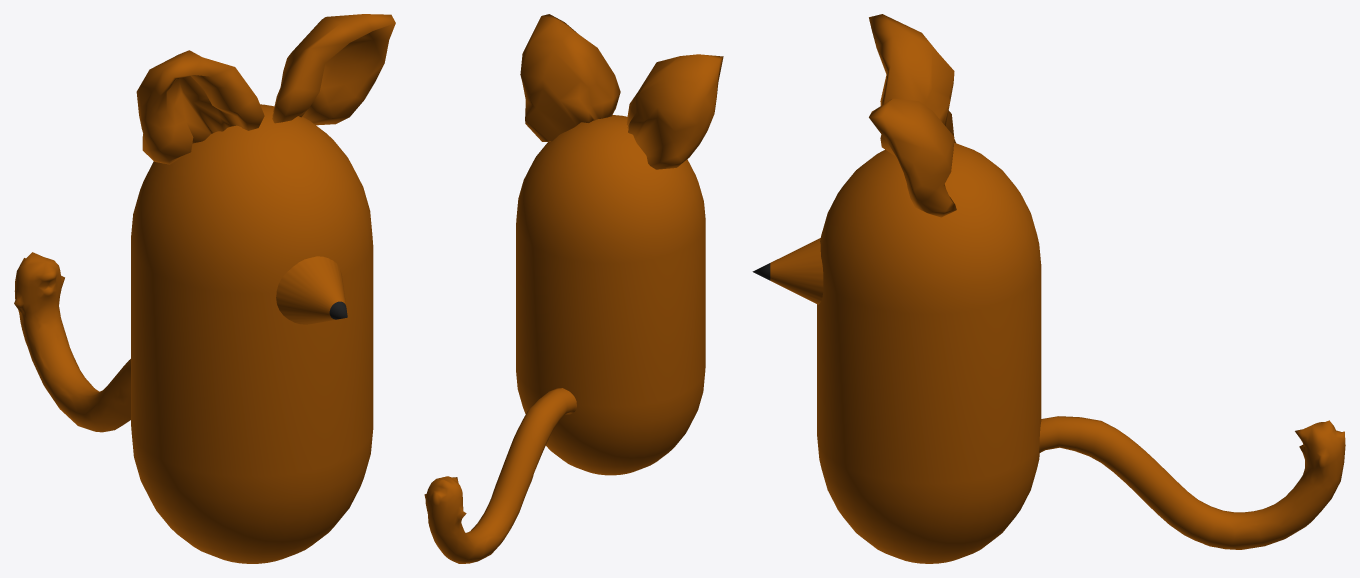
The model's file is NPC_Cat.fbx.
3 views of the same model, side by side, from view 1: azimuth 30°, elevation 25°; view 2: azimuth 150°, elevation 25°; view 3: azimuth 270°, elevation 25° (orthographic). The views are drawn at different scales.
Visible parts, largest first — view 1: Cat; view 2: Cat; view 3: Cat.
Part boxes in pixels (<box>): Cat: <box>14,14,395,563</box>; Cat: <box>424,14,723,563</box>; Cat: <box>752,14,1345,563</box>.
Bounding box in the file's own units: 1.15 × 2.43 × 2.64.
